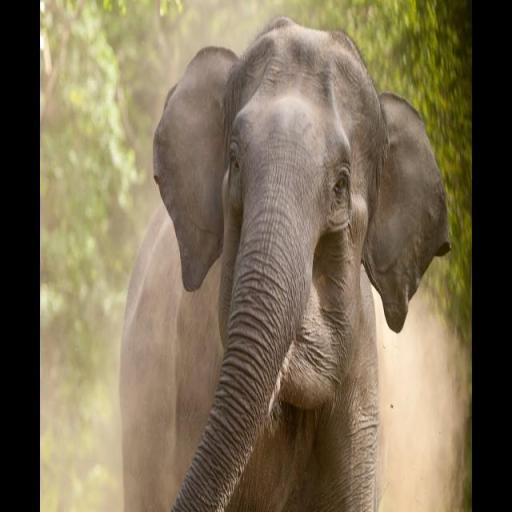Elephant: (120, 14, 451, 510)
